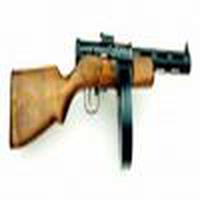gun: (3, 33, 200, 155)
